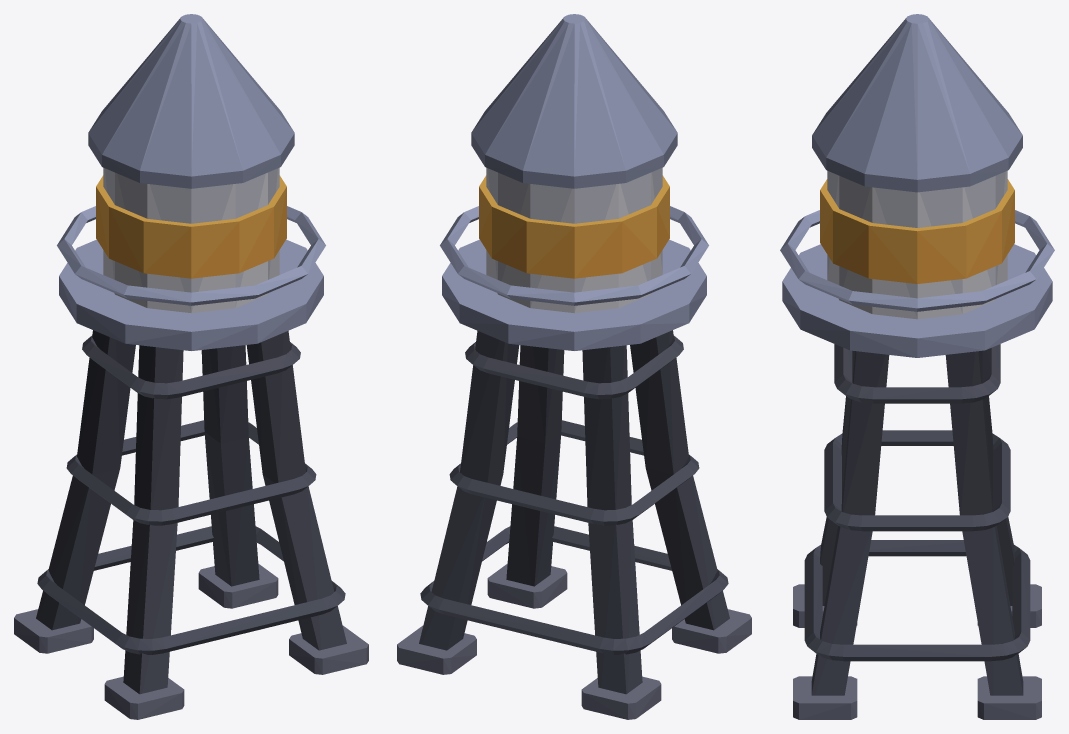
The model's file is silo.glb.
3 renders of one model, left to right at view 1: azimuth 30°, elevation 25°; view 2: azimuth 150°, elevation 25°; view 3: azimuth 270°, elevation 25°, orthographic. The views are drawn at different scales.
Visible parts, largest first — view 1: body; view 2: body; view 3: body.
Boxes of the visible parts, left/top/right/bottom form: body: left=14, top=14, right=368, bottom=719; body: left=397, top=14, right=751, bottom=719; body: left=780, top=14, right=1054, bottom=719.
Size of the model in its own units: 6.21 by 15.6 by 6.06.
